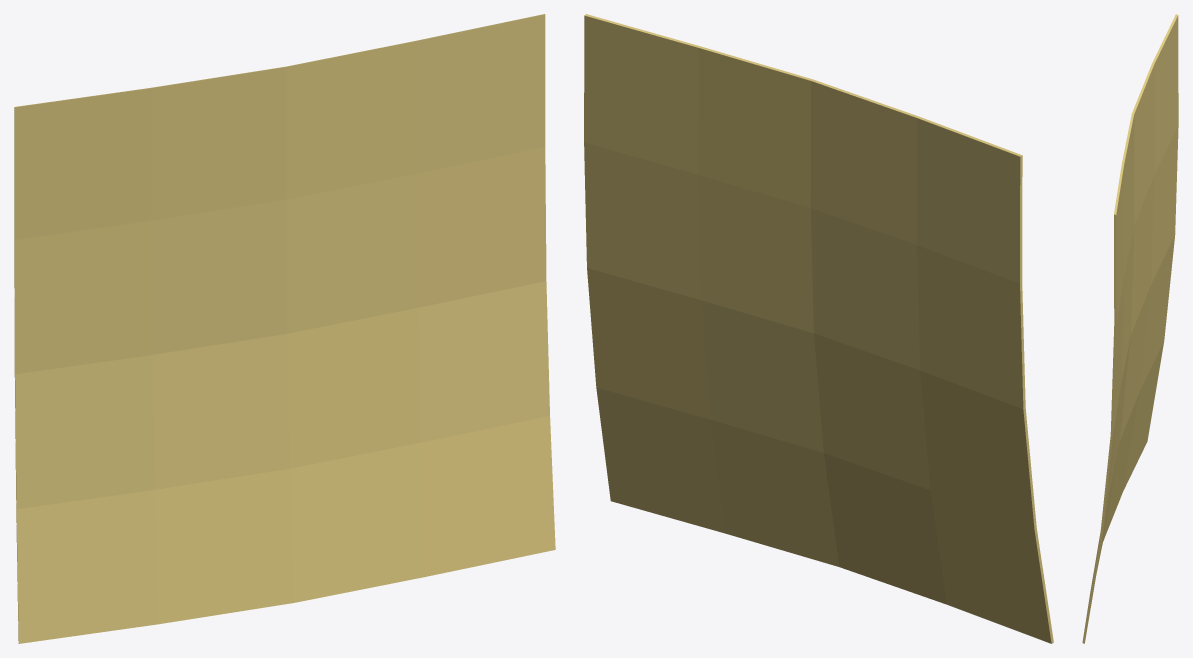
File: lap1-2x.fbx
3 views of the same model, side by side, from view 1: azimuth 30°, elevation 25°; view 2: azimuth 150°, elevation 25°; view 3: azimuth 270°, elevation 25° (orthographic). The views are drawn at different scales.
Parts seen in each view (by area): view 1: Lap; view 2: Lap; view 3: Lap.
Part boxes in pixels (x1,y1,x2,y2): Lap: [14, 14, 555, 643]; Lap: [584, 14, 1053, 643]; Lap: [1082, 14, 1178, 643].
Bounding box in the file's own units: 27.32 × 26.71 × 5.38.
